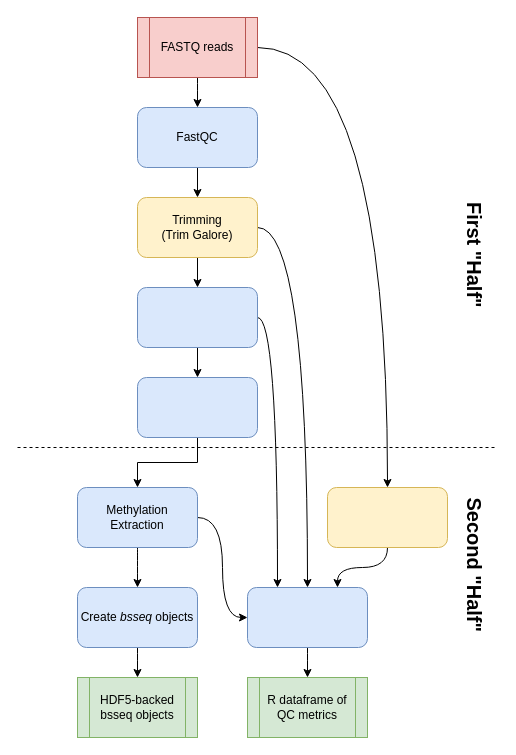
This 516x755 diagram has some shape labels left out. The shapes that lost their labels are listed below. From the top down, each one's box as (x1, y1, x2, y2) in pixels, then its label:
(136, 286, 258, 348): Alignment (Arioc)
(136, 376, 258, 438): Quality filter + deduplicate concordant SAMs
(326, 486, 448, 548): Lambda Pseudoalignment
(246, 586, 368, 648): Extract Metrics/ Parse Logs
